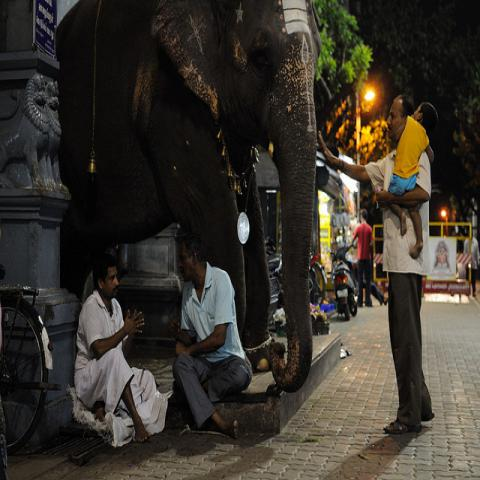motorcycle: (324, 245, 358, 321), (268, 255, 281, 324)
